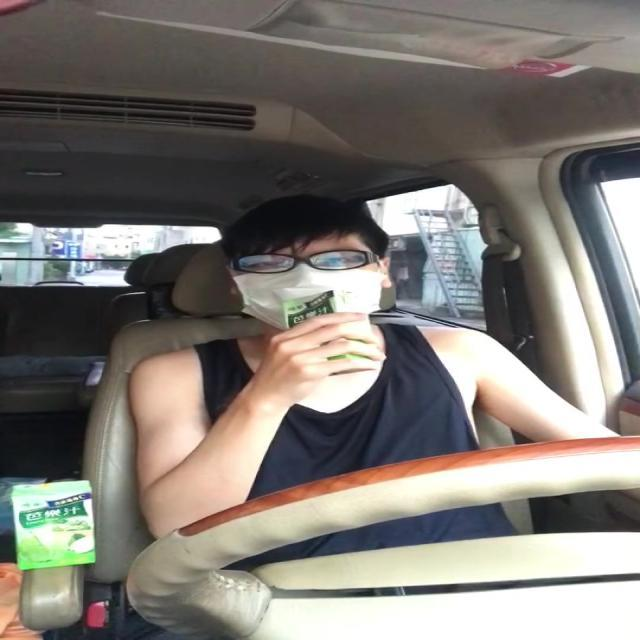Seatbelt: (282, 289, 377, 370)
